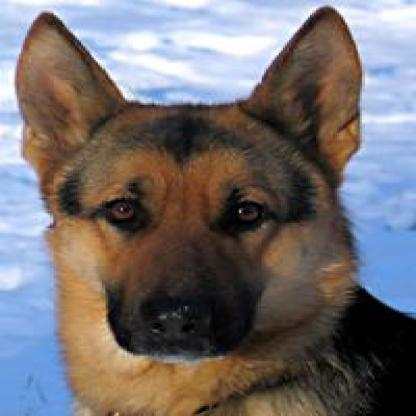German_shepherd: (10, 1, 412, 413)
